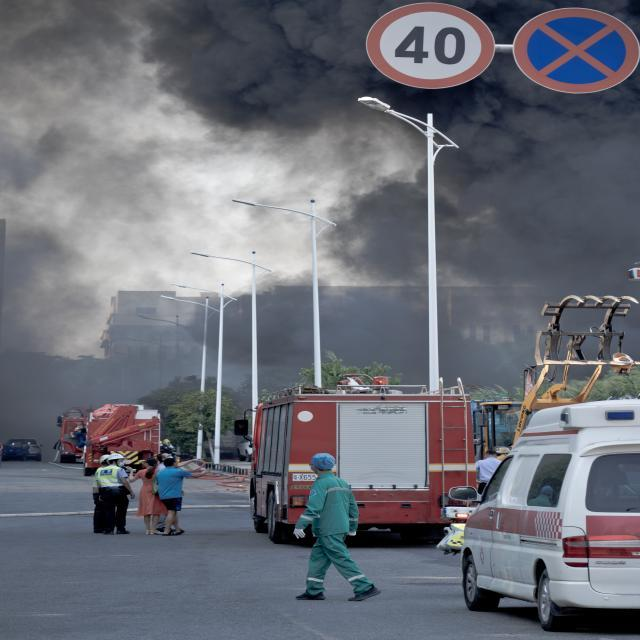Smoke: (10, 19, 363, 301)
